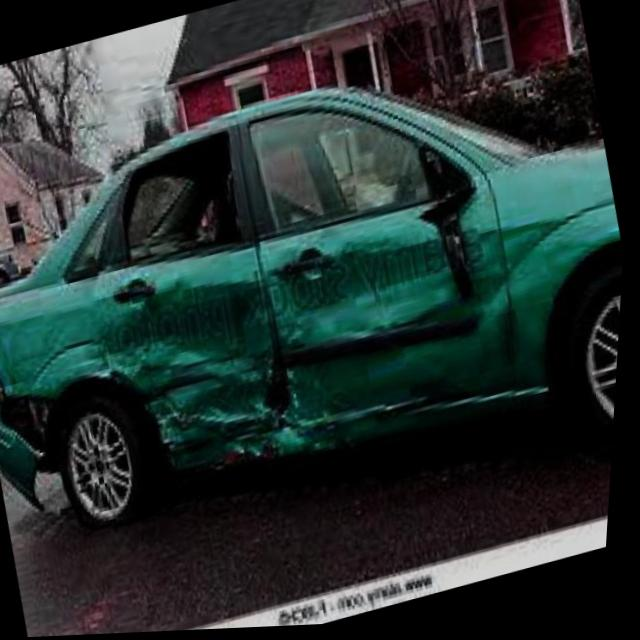Car-Damage: (0, 40, 637, 545)
